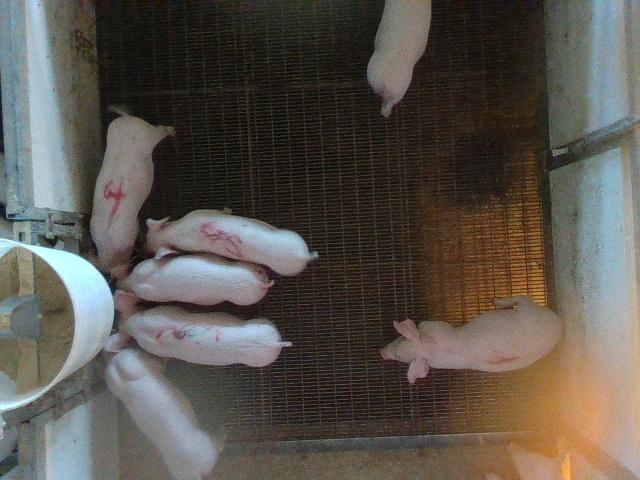pig-3: (381, 296, 561, 382), (104, 291, 291, 367)
pig-4: (90, 114, 174, 259)
pig-5: (145, 209, 318, 276)
